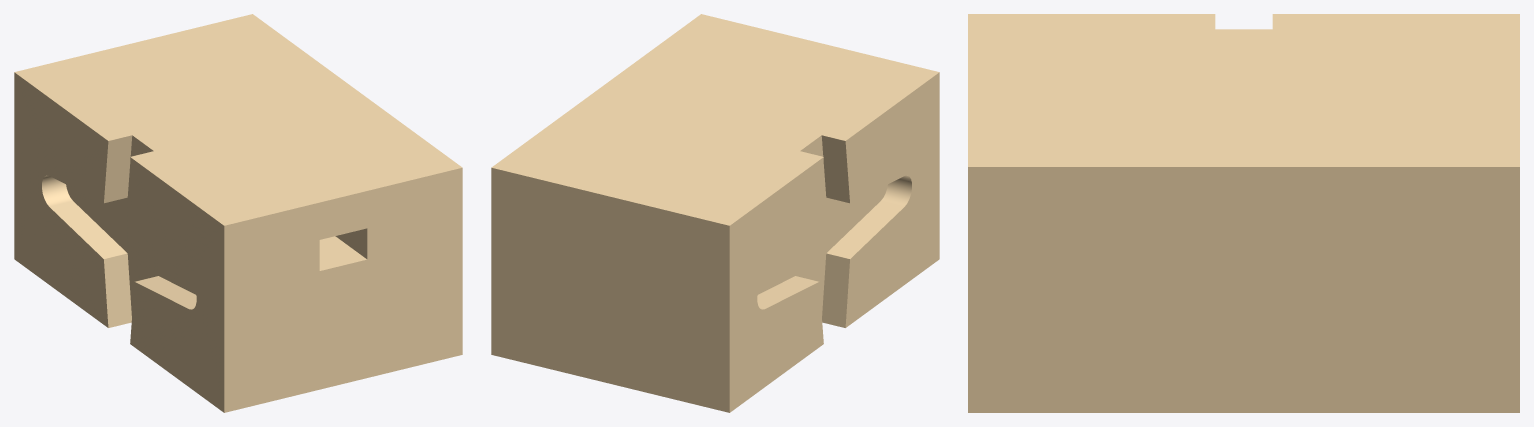
The model's file is Pieza4.glb.
3 renders of one model, left to right at view 1: azimuth 30°, elevation 25°; view 2: azimuth 150°, elevation 25°; view 3: azimuth 270°, elevation 25°, orthographic. The views are drawn at different scales.
Parts seen in each view (by area): view 1: Sólido1; view 2: Sólido1; view 3: Sólido1.
Part boxes in pixels (x1,y1,x2,y2): Sólido1: [14, 14, 462, 412]; Sólido1: [491, 14, 939, 412]; Sólido1: [968, 14, 1519, 412].
Bounding box in the file's own units: 0.04 × 0.03 × 0.061.
